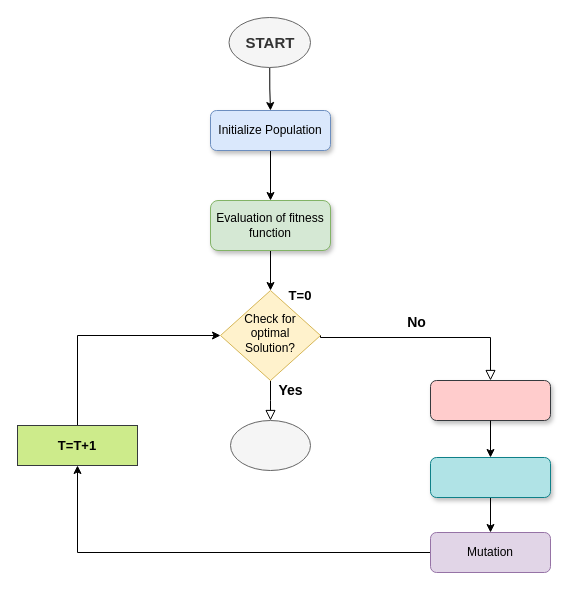
Image size: 574x590. Some labels were removed from this diagram. Each missing label, with the centre of its shape:
"Crossover" goes at (x=491, y=478).
"Selection" goes at (x=491, y=402).
"STOP" goes at (x=270, y=445).
